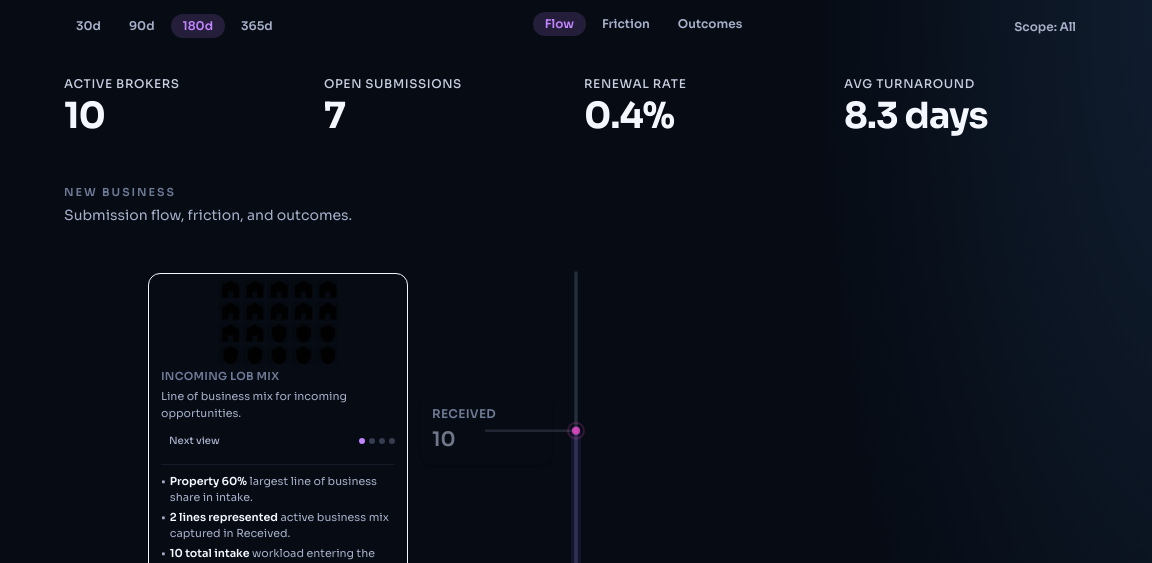
Test: OpportunitiesSummary › restores the previously selected flow mini-view after chapter overrides
The image size is (1152, 563).
Click the button with aria-label "cycle received mini visualization". click: (194, 440)
box: [161,429,228,452]
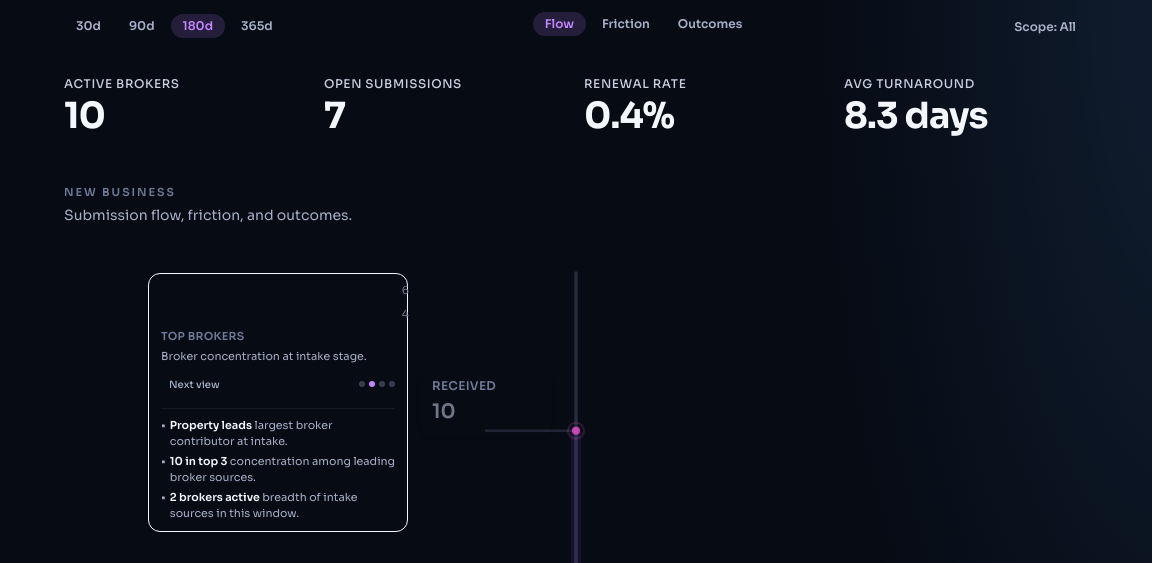
Check: the text "Top brokers" is shown, box [161,328,244,342]
Click the tab "Friction". click: (626, 24)
box: [590,12,662,36]
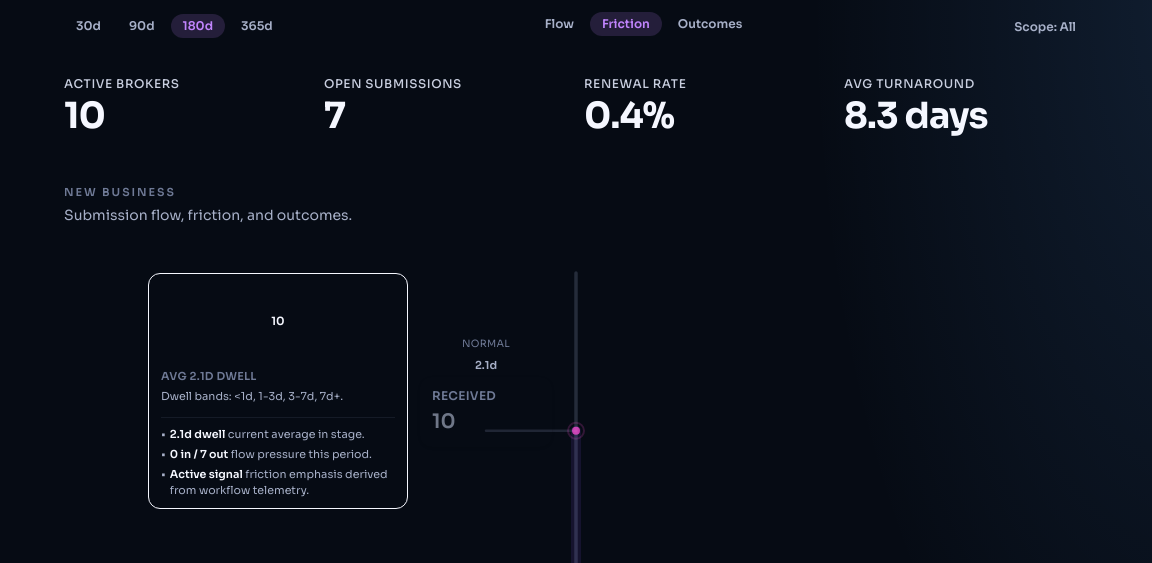
Click the tab "Outcomes". click: (710, 24)
box: [666,12,754,36]
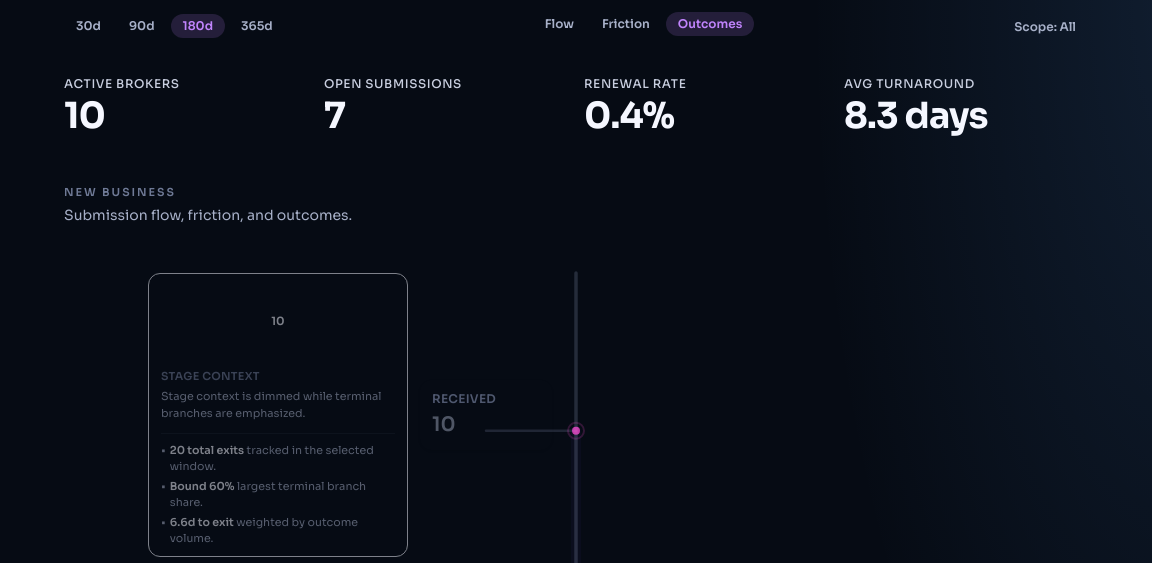
Click the tab "Flow". click: (559, 24)
box: [533,12,586,36]
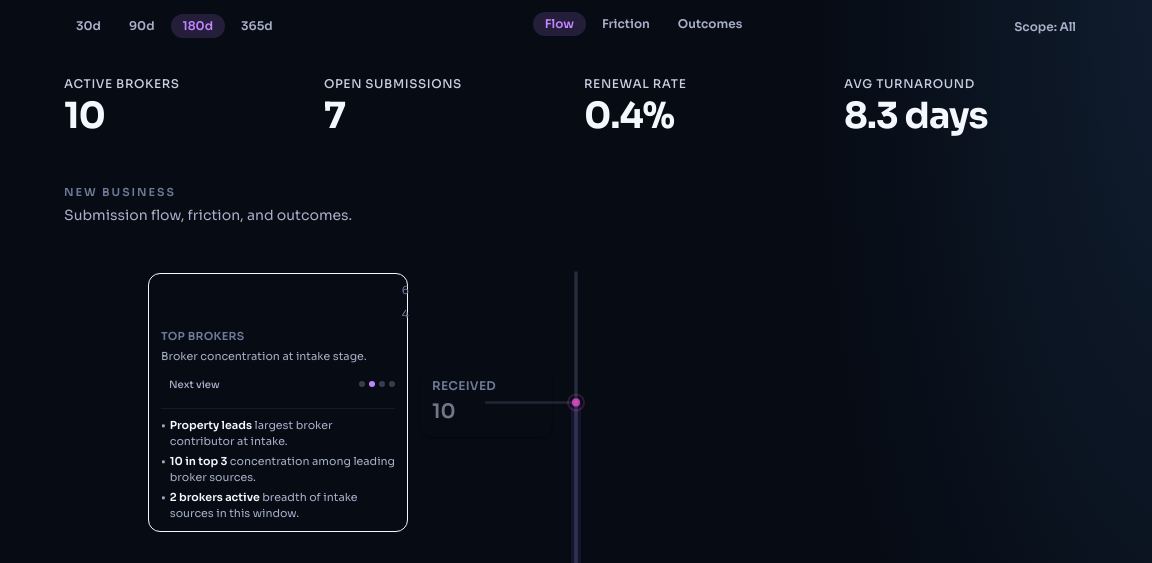
Check: the text "Top brokers" is shown, box [161,328,244,342]
